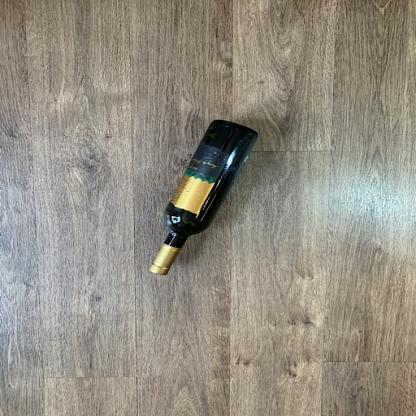trash: (146, 120, 263, 279)
